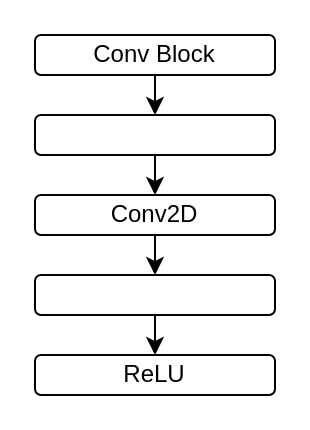
Some shapes in this 310 by 430 pixel diagram are drawn without their labels. The shapes that lost their labels are listed below. From the top down, each one's centre as x and y in pixels, then its label:
At (x=154, y=134): "Zeropadding2D".
At (x=154, y=294): "BatchNoramlization".
